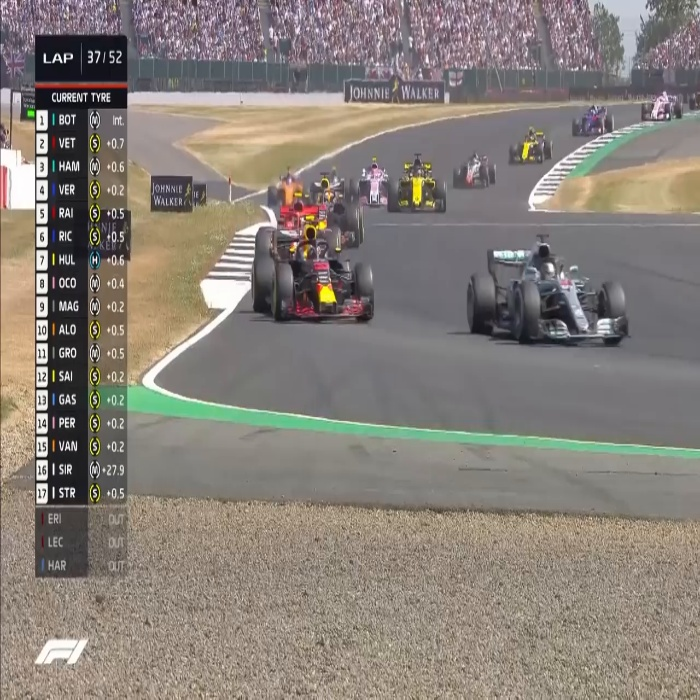f1_car: (456, 234, 651, 359), (245, 235, 381, 324), (389, 157, 452, 218), (506, 121, 563, 173), (447, 145, 499, 191), (566, 99, 621, 142), (633, 86, 683, 132)
